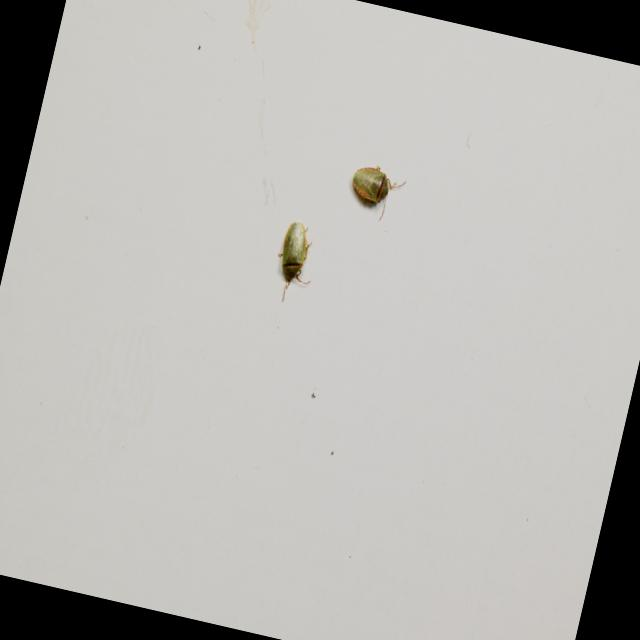stinkbug: (267, 218, 323, 308), (345, 160, 408, 226)
